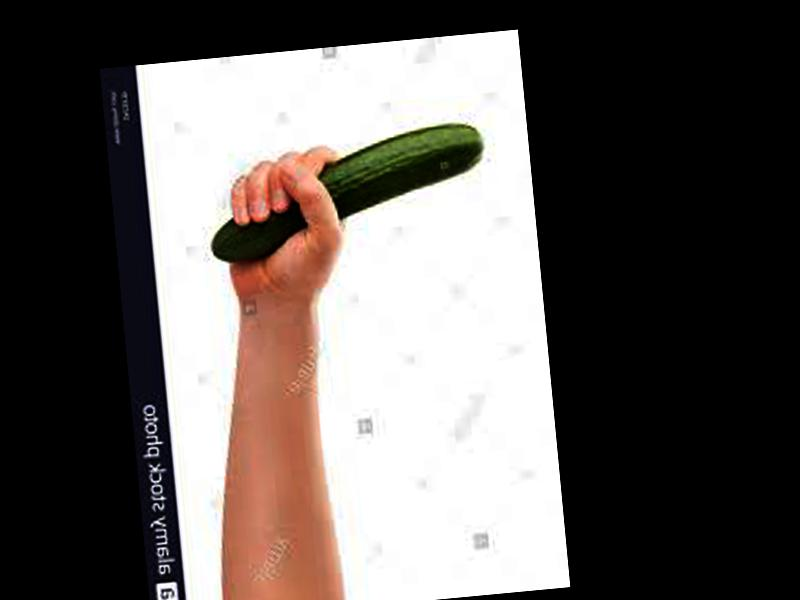Cucumber: (203, 120, 490, 261)
